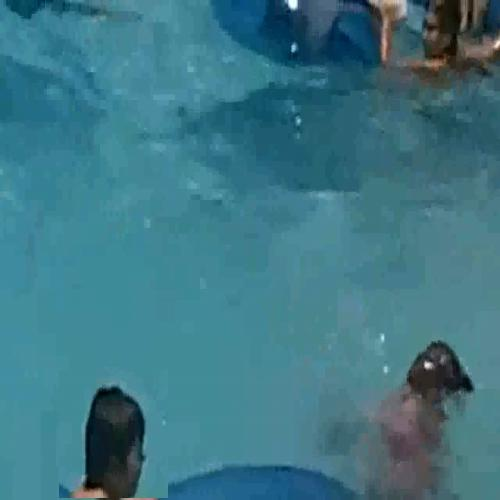drowning: (300, 300, 498, 500)
swimming: (59, 370, 169, 499), (379, 0, 499, 95)
